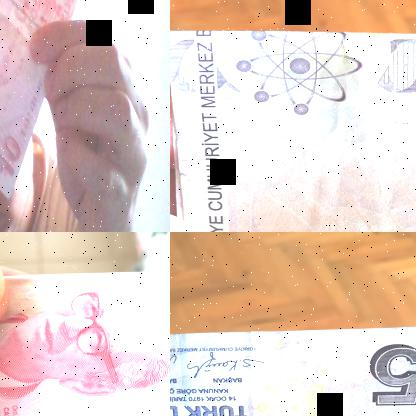5 TL: (0, 0, 98, 198)
